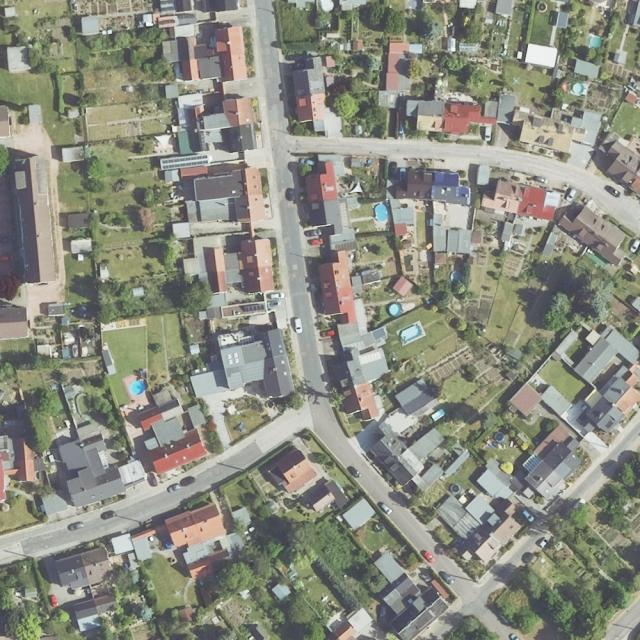PV: (160, 155, 208, 169), (359, 351, 381, 366), (160, 0, 174, 11), (245, 304, 264, 312), (178, 14, 195, 19), (160, 20, 174, 25)
